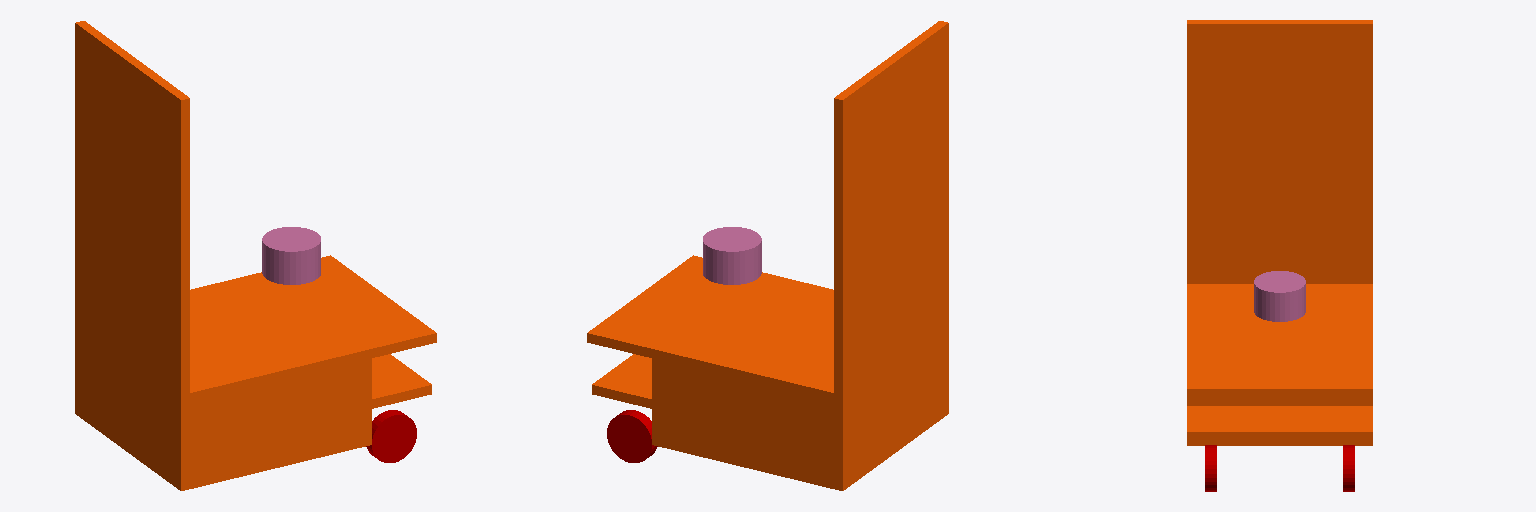
URDF robot description (orne_box):
<?xml version="1.0" ?>
<!-- =================================================================================== -->
<!-- |    This document was autogenerated by xacro from orne_box3.urdf.xacro           | -->
<!-- |    EDITING THIS FILE BY HAND IS NOT RECOMMENDED                                 | -->
<!-- =================================================================================== -->
<robot name="orne_box" xmlns:controller="http://playerstage.sourceforge.net/gazebo/xmlschema/#controller" xmlns:interface="http://playerstage.sourceforge.net/gazebo/xmlschema/#interface">
  <material name="black">
    <color rgba="0.0 0.0 0.0 1.0"/>
  </material>
  <material name="blue">
    <color rgba="0.0 0.0 0.8 1.0"/>
  </material>
  <material name="green">
    <color rgba="0.0 0.8 0.0 1.0"/>
  </material>
  <material name="grey">
    <color rgba="0.2 0.2 0.2 1.0"/>
  </material>
  <material name="orange">
    <color rgba="1.0 0.4235294117647059 0.0392156862745098 1.0"/>
  </material>
  <material name="brown">
    <color rgba="0.8705882352941177 0.8117647058823529 0.7647058823529411 1.0"/>
  </material>
  <material name="red">
    <color rgba="0.8 0.0 0.0 1.0"/>
  </material>
  <material name="white">
    <color rgba="1.0 1.0 1.0 1.0"/>
  </material>
  <gazebo>
    <plugin filename="libgazebo_ros_control.so" name="gazebo_ros_control">
      <robotSimType>icart_mini_gazebo/ICartMiniHWSim</robotSimType>
    </plugin>
  </gazebo>
  <gazebo reference="base_link">
    <material>Gazebo/Orange</material>
  </gazebo>
  <gazebo reference="wheel_left_link">
    <mu1>1.0</mu1>
    <mu2>1.0</mu2>
    <kp>1000000.0</kp>
    <kd>100.0</kd>
    <minDepth>0.001</minDepth>
    <maxVel>1.0</maxVel>
    <material>Gazebo/White</material>
  </gazebo>
  <gazebo reference="wheel_right_link">
    <mu1>1.0</mu1>
    <mu2>1.0</mu2>
    <kp>1000000.0</kp>
    <kd>100.0</kd>
    <minDepth>0.001</minDepth>
    <maxVel>1.0</maxVel>
    <material>Gazebo/White</material>
  </gazebo>
  <gazebo reference="caster_front_link">
    <mu1>0.0</mu1>
    <mu2>0.0</mu2>
    <material>Gazebo/Red</material>
  </gazebo>
  <gazebo reference="imu_link">
    <sensor name="imu" type="imu">
      <always_on>true</always_on>
      <visualize>false</visualize>
    </sensor>
    <material>Gazebo/FlatBlack</material>
  </gazebo>
  <!-- surestar rfans16 -->
  <gazebo reference="rfans16_link">
    <sensor name="rfans16" type="ray">
      <pose>0 0 0 0 0 0</pose>
      <visualize>false</visualize>
      <update_rate>10</update_rate>
      <ray>
        <scan>
          <horizontal>
            <samples>2000</samples>
            <resolution>1</resolution>
            <min_angle>-3.141592653589793</min_angle>
            <max_angle>3.141592653589793</max_angle>
          </horizontal>
          <vertical>
            <samples>16</samples>
            <resolution>1</resolution>
            <min_angle>-0.2617993877991494</min_angle>
            <max_angle>0.2617993877991494</max_angle>
          </vertical>
        </scan>
        <range>
          <min>0.10</min>
          <max>200.0</max>
          <resolution>0.01</resolution>
        </range>
        <noise>
          <type>gaussian</type>
          <mean>0.0</mean>
          <stddev>0.01</stddev>
        </noise>
      </ray>
      <plugin filename="libgazebo_ros_laser.so" name="gazebo_ros_rfans16_controller">
        <topicName>/scan</topicName>
        <frameName>rfans16_link</frameName>
      </plugin>
    </sensor>
  </gazebo>
  <link name="base_link">
    <!--
    <visual>
      <origin xyz="0 0 -0.154" rpy="0 0 0"/>
      <geometry>
        <mesh filename="package://orne_box_description/meshes/bases/orne_box_base.stl" scale="1 1 1"/>
      </geometry>
      <material name="orange"/>
    </visual>
-->
    <visual>
      <origin rpy="0 0 0" xyz="0.090 0 0.1715"/>
      <geometry>
        <box size="0.400 0.404 0.202"/>
      </geometry>
      <material name="orange"/>
    </visual>
    <visual>
      <origin rpy="0 0 0" xyz="0.36125 0 0.2625"/>
      <geometry>
        <box size="0.1425 0.404 0.020"/>
      </geometry>
      <material name="orange"/>
    </visual>
    <visual>
      <origin rpy="0 0 0" xyz="0.35625 0 0.156"/>
      <geometry>
        <box size="0.1325 0.404 0.020"/>
      </geometry>
      <material name="orange"/>
    </visual>
    <visual>
      <origin rpy="0 0 0" xyz="-0.120 0 0.4815"/>
      <geometry>
        <box size="0.020 0.404 0.822"/>
      </geometry>
      <material name="orange"/>
    </visual>
    <collision>
      <origin rpy="0 0 0" xyz="0.090 0 0.1715"/>
      <geometry>
        <box size="0.400 0.404 0.202"/>
      </geometry>
    </collision>
    <collision>
      <origin rpy="0 0 0" xyz="0.36125 0 0.2625"/>
      <geometry>
        <box size="0.1425 0.404 0.020"/>
      </geometry>
    </collision>
    <collision>
      <origin rpy="0 0 0" xyz="0.35625 0 0.156"/>
      <geometry>
        <box size="0.1325 0.404 0.020"/>
      </geometry>
    </collision>
    <collision>
      <origin rpy="0 0 0" xyz="-0.120 0 0.4815"/>
      <geometry>
        <box size="0.020 0.404 0.822"/>
      </geometry>
    </collision>
    <inertial>
      <origin rpy="0 0 0" xyz="0.090 0 0.1715"/>
      <mass value="25.0"/>
      <inertia ixx="1.0" ixy="0.0" ixz="0.0" iyy="1.0" iyz="0.0" izz="1.0"/>
    </inertial>
  </link>
  <joint name="left_wheel_hinge" type="revolute">
    <parent link="base_link"/>
    <child link="wheel_left_link"/>
    <origin rpy="-1.5707963267948966 0 0" xyz="0.0 0.23075 0.152"/>
    <axis xyz="0 0 1"/>
    <limit effort="100" lower="-5000" upper="5000" velocity="100.0"/>
  </joint>
  <link name="wheel_left_link">
    <visual>
      <origin rpy="0 0 0" xyz="0 0 0"/>
      <geometry>
        <mesh filename="package://orne_box_description/meshes/wheels/tire.stl" scale="1 1 1"/>
      </geometry>
      <material name="white"/>
    </visual>
    <collision>
      <origin rpy="0 0 0" xyz="0 0 0"/>
      <geometry>
        <cylinder length="0.045" radius="0.152"/>
      </geometry>
    </collision>
    <inertial>
      <origin xyz="0 0 0"/>
      <mass value="0.2"/>
      <inertia ixx="0.1" ixy="0.0" ixz="0.0" iyy="0.1" iyz="0.0" izz="0.1"/>
    </inertial>
  </link>
  <joint name="right_wheel_hinge" type="revolute">
    <parent link="base_link"/>
    <child link="wheel_right_link"/>
    <origin rpy="-1.5707963267948966 0 0" xyz="0.0 -0.23075 0.152"/>
    <axis xyz="0 0 1"/>
    <limit effort="100" lower="-5000" upper="5000" velocity="100.0"/>
  </joint>
  <link name="wheel_right_link">
    <visual>
      <origin rpy="0 0 0" xyz="0 0 0"/>
      <geometry>
        <mesh filename="package://orne_box_description/meshes/wheels/tire.stl" scale="1 1 1"/>
      </geometry>
      <material name="white"/>
    </visual>
    <collision>
      <origin rpy="0 0 0" xyz="0 0 0"/>
      <geometry>
        <cylinder length="0.045" radius="0.152"/>
      </geometry>
    </collision>
    <inertial>
      <origin xyz="0 0 0"/>
      <mass value="0.2"/>
      <inertia ixx="0.1" ixy="0.0" ixz="0.0" iyy="0.1" iyz="0.0" izz="0.1"/>
    </inertial>
  </link>
  <joint name="caster_front_joint" type="fixed">
    <parent link="base_link"/>
    <child link="caster_front_link"/>
    <origin rpy="0 0 0" xyz="0.362 0 0.050"/>
  </joint>
  <link name="caster_front_link">
    <visual>
      <origin rpy="1.5707963267948966 0 0" xyz="0 0.150 0"/>
      <geometry>
        <cylinder length="0.025" radius="0.050"/>
      </geometry>
      <material name="red"/>
    </visual>
    <visual>
      <origin rpy="1.5707963267948966 0 0" xyz="0 -0.150 0"/>
      <geometry>
        <cylinder length="0.025" radius="0.050"/>
      </geometry>
      <material name="red"/>
    </visual>
    <collision>
      <origin rpy="1.5707963267948966 0 0" xyz="0 0.150 0"/>
      <geometry>
        <cylinder length="0.025" radius="0.050"/>
      </geometry>
    </collision>
    <collision>
      <origin rpy="1.5707963267948966 0 0" xyz="0 -0.150 0"/>
      <geometry>
        <cylinder length="0.025" radius="0.050"/>
      </geometry>
    </collision>
    <inertial>
      <origin xyz="0 0 0"/>
      <mass value="0.2"/>
      <inertia ixx="0.1" ixy="0.0" ixz="0.0" iyy="0.1" iyz="0.0" izz="0.1"/>
    </inertial>
  </link>
  <joint name="imu_joint" type="fixed">
    <axis xyz="1 0 0"/>
    <origin rpy="0 0 -1.5707963267948966" xyz="0.3 0 0.2445"/>
    <parent link="base_link"/>
    <child link="imu_link"/>
  </joint>
  <link name="imu_link">
    <inertial>
      <mass value="0.001"/>
      <origin rpy="0 0 0" xyz="0 0 0"/>
      <inertia ixx="0.0001" ixy="0" ixz="0" iyy="0.000001" iyz="0" izz="0.0001"/>
    </inertial>
    <visual>
      <origin rpy="0 0 0" xyz="0 0 0"/>
      <geometry>
        <box size="0.05 0.05 0.05"/>
      </geometry>
    </visual>
    <collision>
      <origin rpy="0 0 0" xyz="0 0 0"/>
      <geometry>
        <box size="0.05 0.05 0.05"/>
      </geometry>
    </collision>
  </link>
  <gazebo>
    <plugin filename="libgazebo_ros_imu.so" name="ros_imu">
      <bodyName>imu_link</bodyName>
      <!-- bodyName always set base_link by URDF parser -->
      <topicName>imu_data</topicName>
      <serviceName>imu_service</serviceName>
      <gaussianNoise>0.005</gaussianNoise>
      <updateRate>100.0</updateRate>
    </plugin>
  </gazebo>
  <joint name="hokuyo_joint" type="fixed">
    <axis xyz="0 1 0"/>
    <origin rpy="-3.141592653589793 0 0" xyz="0.374295 0 0.2185"/>
    <parent link="base_link"/>
    <child link="hokuyo_link"/>
  </joint>
  <link name="hokuyo_link">
    <collision>
      <origin rpy="0 0 0" xyz="0 0 0"/>
      <geometry>
        <box size="0.1 0.1 0.1"/>
      </geometry>
    </collision>
    <visual>
      <origin rpy="0 0 0" xyz="0 0 0"/>
      <geometry>
        <mesh filename="package://icart_mini_description/meshes/hokuyo.dae"/>
      </geometry>
    </visual>
    <inertial>
      <mass value="0.0001"/>
      <origin rpy="0 0 0" xyz="0 0 0"/>
      <inertia ixx="0.0001" ixy="0" ixz="0" iyy="0.0001" iyz="0" izz="0.0001"/>
    </inertial>
  </link>
  <joint name="rfans16_joint" type="fixed">
    <axis xyz="0 1 0"/>
    <origin rpy="0 0 3.141592653589793" xyz="0.23 0 0.40"/>
    <parent link="base_link"/>
    <child link="rfans16_link"/>
  </joint>
  <link name="rfans16_link">
    <collision>
      <origin rpy="0 0 0" xyz="0 0 0"/>
      <geometry>
        <cylinder length="0.07" radius="0.0565"/>
      </geometry>
    </collision>
    <visual>
      <origin rpy="0 0 0" xyz="0 0 0"/>
      <geometry>
        <cylinder length="0.07" radius="0.0565"/>
      </geometry>
    </visual>
    <inertial>
      <mass value="0.0001"/>
      <origin rpy="0 0 0" xyz="0 0 0"/>
      <inertia ixx="0.0001" ixy="0" ixz="0" iyy="0.0001" iyz="0" izz="0.0001"/>
    </inertial>
  </link>
  <transmission name="tran1">
    <type>transmission_interface/SimpleTransmission</type>
    <joint name="left_wheel_hinge">
      <hardwareInterface>VelocityJointInterface</hardwareInterface>
    </joint>
    <actuator name="left_motor">
      <hardwareInterface>VelocityJointInterface</hardwareInterface>
      <mechanicalReduction>1</mechanicalReduction>
    </actuator>
  </transmission>
  <transmission name="tran2">
    <type>transmission_interface/SimpleTransmission</type>
    <joint name="right_wheel_hinge">
      <hardwareInterface>VelocityJointInterface</hardwareInterface>
    </joint>
    <actuator name="right_motor">
      <hardwareInterface>VelocityJointInterface</hardwareInterface>
      <mechanicalReduction>1</mechanicalReduction>
    </actuator>
  </transmission>
</robot>

--- Render facts (derived) ---
The picture shows the robot from 3 angles, left to right: view 1: azimuth 30°, elevation 25°; view 2: azimuth 150°, elevation 25°; view 3: azimuth 270°, elevation 25°; orthographic projection.
Robot: orne_box — 7 links, 6 joints (2 revolute, 4 fixed); root link base_link; default pose: every joint at zero.
Visible links, largest first — view 1: base_link, rfans16_link, caster_front_link; view 2: base_link, rfans16_link, caster_front_link; view 3: base_link, rfans16_link, caster_front_link.
Link boxes in pixels (x1,y1,x2,y2): base_link: [75, 21, 436, 490]; rfans16_link: [262, 227, 320, 284]; caster_front_link: [366, 410, 416, 462]; base_link: [587, 21, 948, 490]; rfans16_link: [703, 227, 761, 284]; caster_front_link: [607, 410, 657, 462]; base_link: [1187, 20, 1372, 445]; rfans16_link: [1254, 271, 1305, 321]; caster_front_link: [1205, 445, 1354, 491].
Bounding box of the posed robot: 0.5625 × 0.404 × 0.8925 m (x, y, z).
0 mesh visuals loaded from 2 distinct referenced files (none loaded); not drawn: 3 (reference not matched to a file when rendering).
